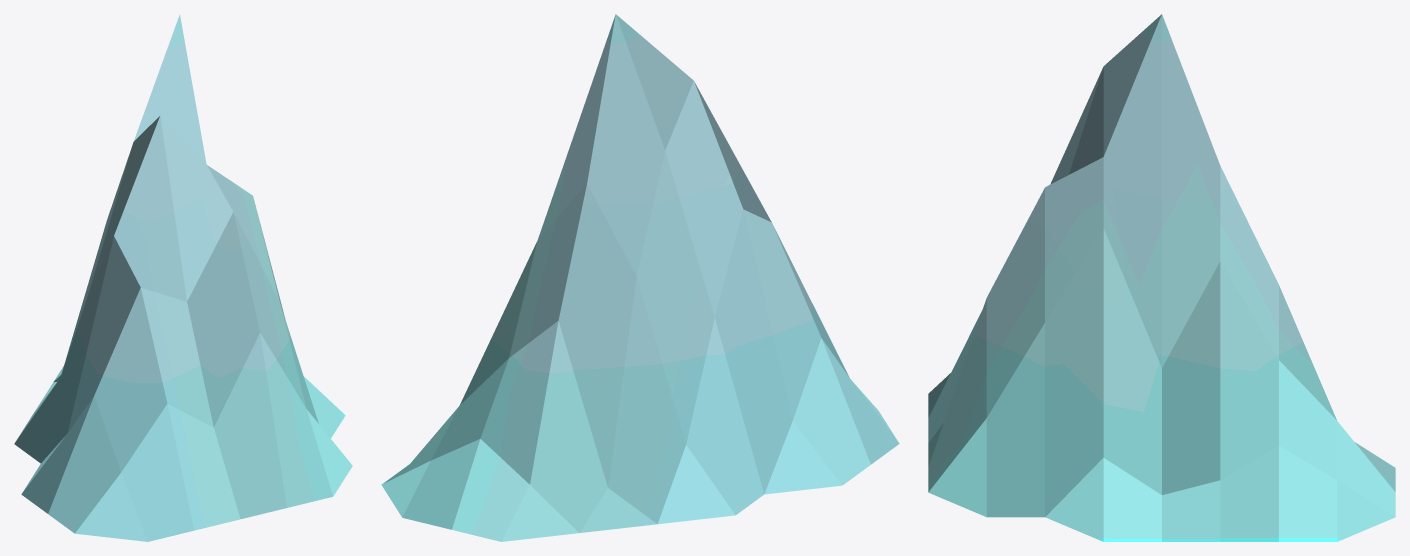
File: Glazier1.fbx
The picture shows the model from 3 angles, left to right: view 1: azimuth 30°, elevation 25°; view 2: azimuth 150°, elevation 25°; view 3: azimuth 270°, elevation 25°; orthographic projection. The views are drawn at different scales.
Visible parts, largest first — view 1: Glacier1; view 2: Glacier1; view 3: Glacier1.
Part boxes in pixels (bbox=[...]): Glacier1: bbox=[14, 14, 352, 541]; Glacier1: bbox=[381, 14, 899, 541]; Glacier1: bbox=[928, 14, 1395, 541].
Bounding box in the file's own units: 3.27 × 4 × 3.73.
